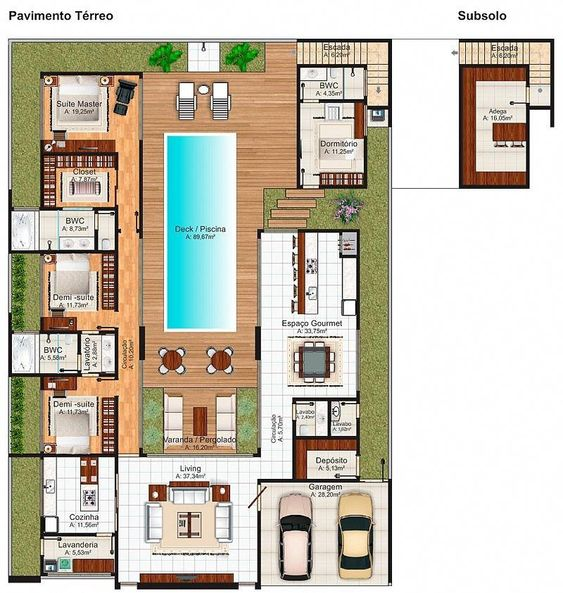room: (112, 451, 261, 590), (255, 227, 362, 401), (456, 62, 530, 190), (38, 70, 145, 157), (37, 370, 121, 458), (37, 450, 120, 537), (37, 249, 120, 336), (295, 97, 369, 189), (4, 328, 119, 378), (6, 203, 119, 253), (37, 149, 119, 211), (37, 533, 119, 581), (290, 434, 361, 483), (294, 61, 368, 103), (290, 394, 330, 439), (327, 395, 360, 439)
wall: (298, 39, 391, 43), (459, 65, 462, 186), (138, 141, 142, 229), (550, 40, 554, 126), (459, 39, 552, 42), (389, 40, 392, 127), (139, 325, 144, 358)
